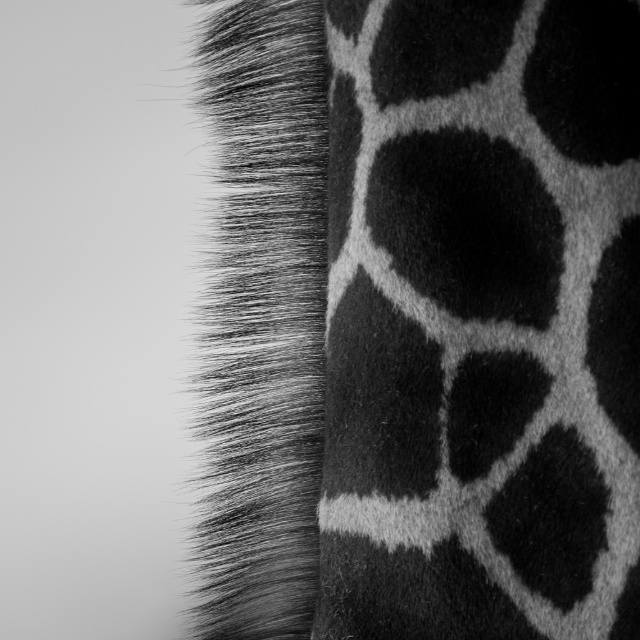Giraffe: (134, 0, 639, 640)
